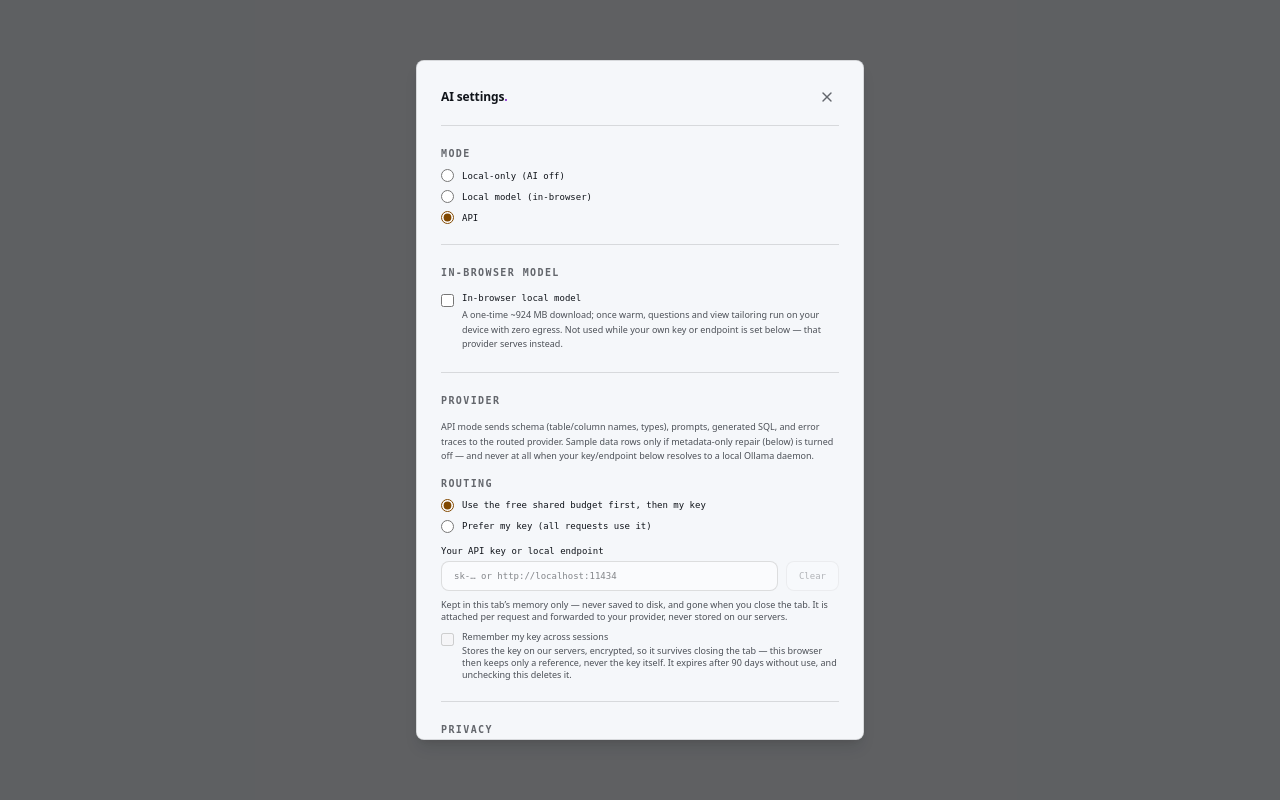
AISettingsPanel › under explicit free-tier-first routing, an Ollama endpoint discloses the cloud-first overflow, not "zero egress" (D3, 2026-07-23)
Type "http://localhost:11434" into the password field labelled "Your API key or local endpoint".
click(609, 576); type("http://localhost:11434")  # box [441,561,778,591]
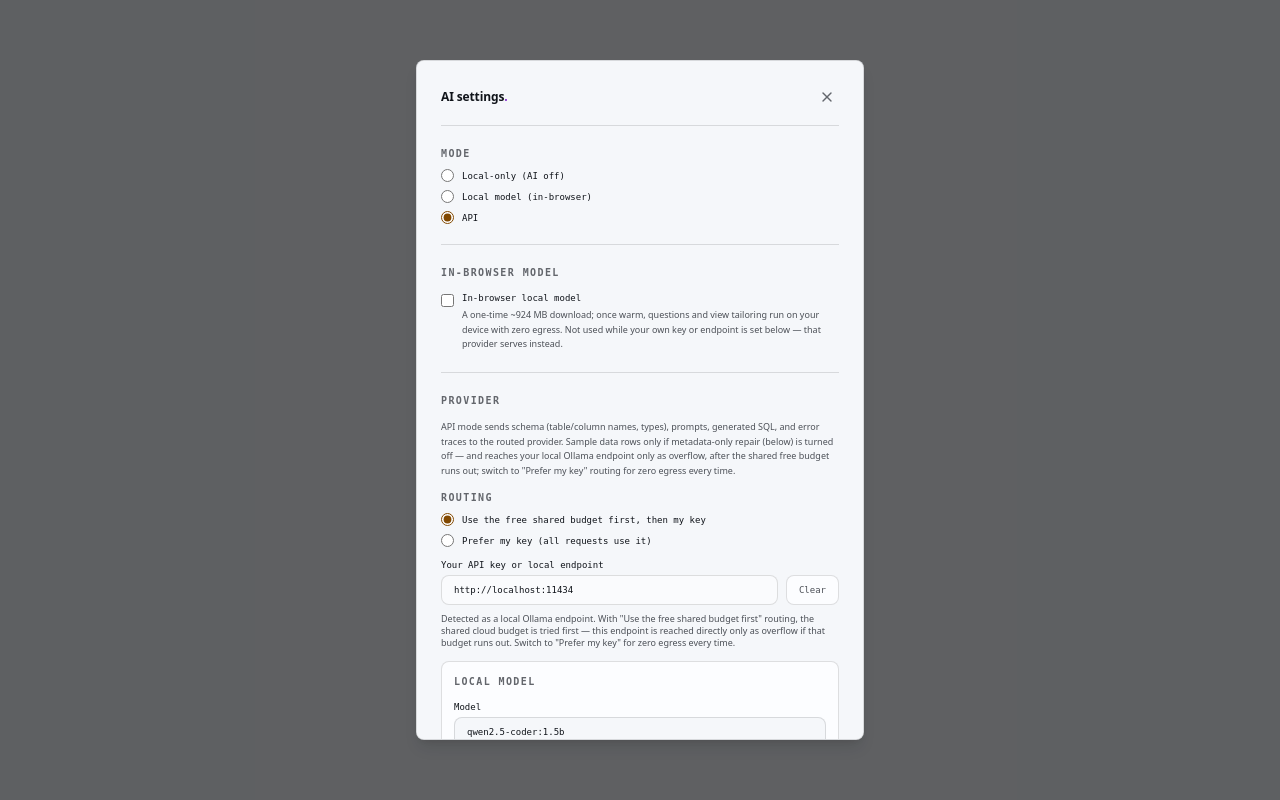
Check: the text "Detected as a local Ollama endpoint" is shown, box [441,612,825,649]
Check: the text "only as overflow" is shown, box [441,449,829,477]
Check: the text "never at all when your key/endpoint below" is gone
